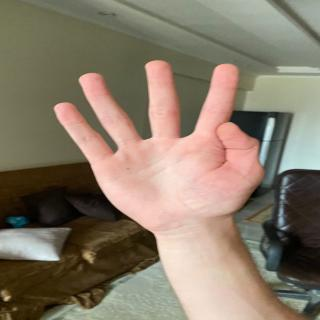SHEEN: (53, 57, 272, 208)
